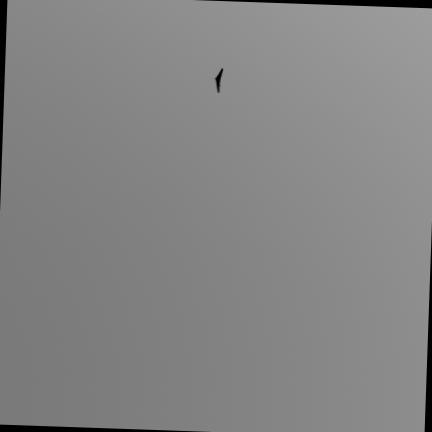Shahed: (215, 68, 223, 91)
